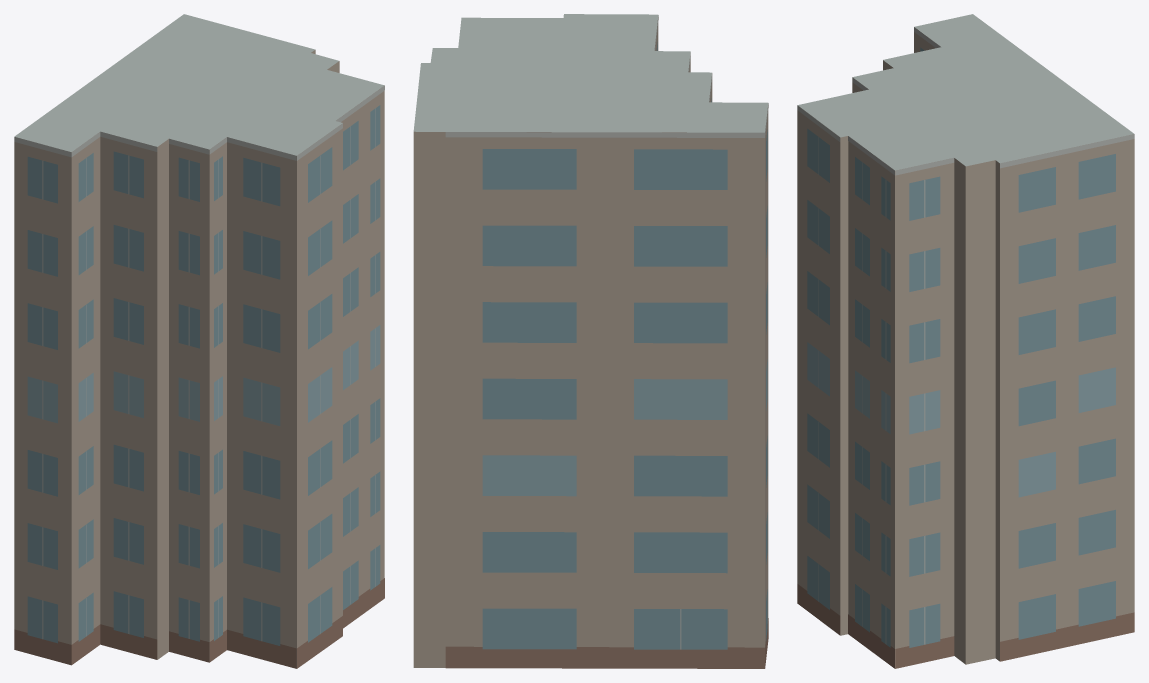
Rendered from survey-upis-32753001.glb.
3 views of the same model, side by side, from view 1: azimuth 30°, elevation 25°; view 2: azimuth 150°, elevation 25°; view 3: azimuth 270°, elevation 25° (orthographic). The views are drawn at different scales.
Visible parts, largest first — view 1: survey-upis-32753001.tmp; view 2: survey-upis-32753001.tmp; view 3: survey-upis-32753001.tmp.
Boxes of the visible parts, box(x1,y1,x2,y2) form: survey-upis-32753001.tmp: box(14, 14, 384, 668); survey-upis-32753001.tmp: box(413, 14, 768, 668); survey-upis-32753001.tmp: box(797, 14, 1134, 668).
Size of the model in its own units: 16.39 by 24.3 by 14.91.
